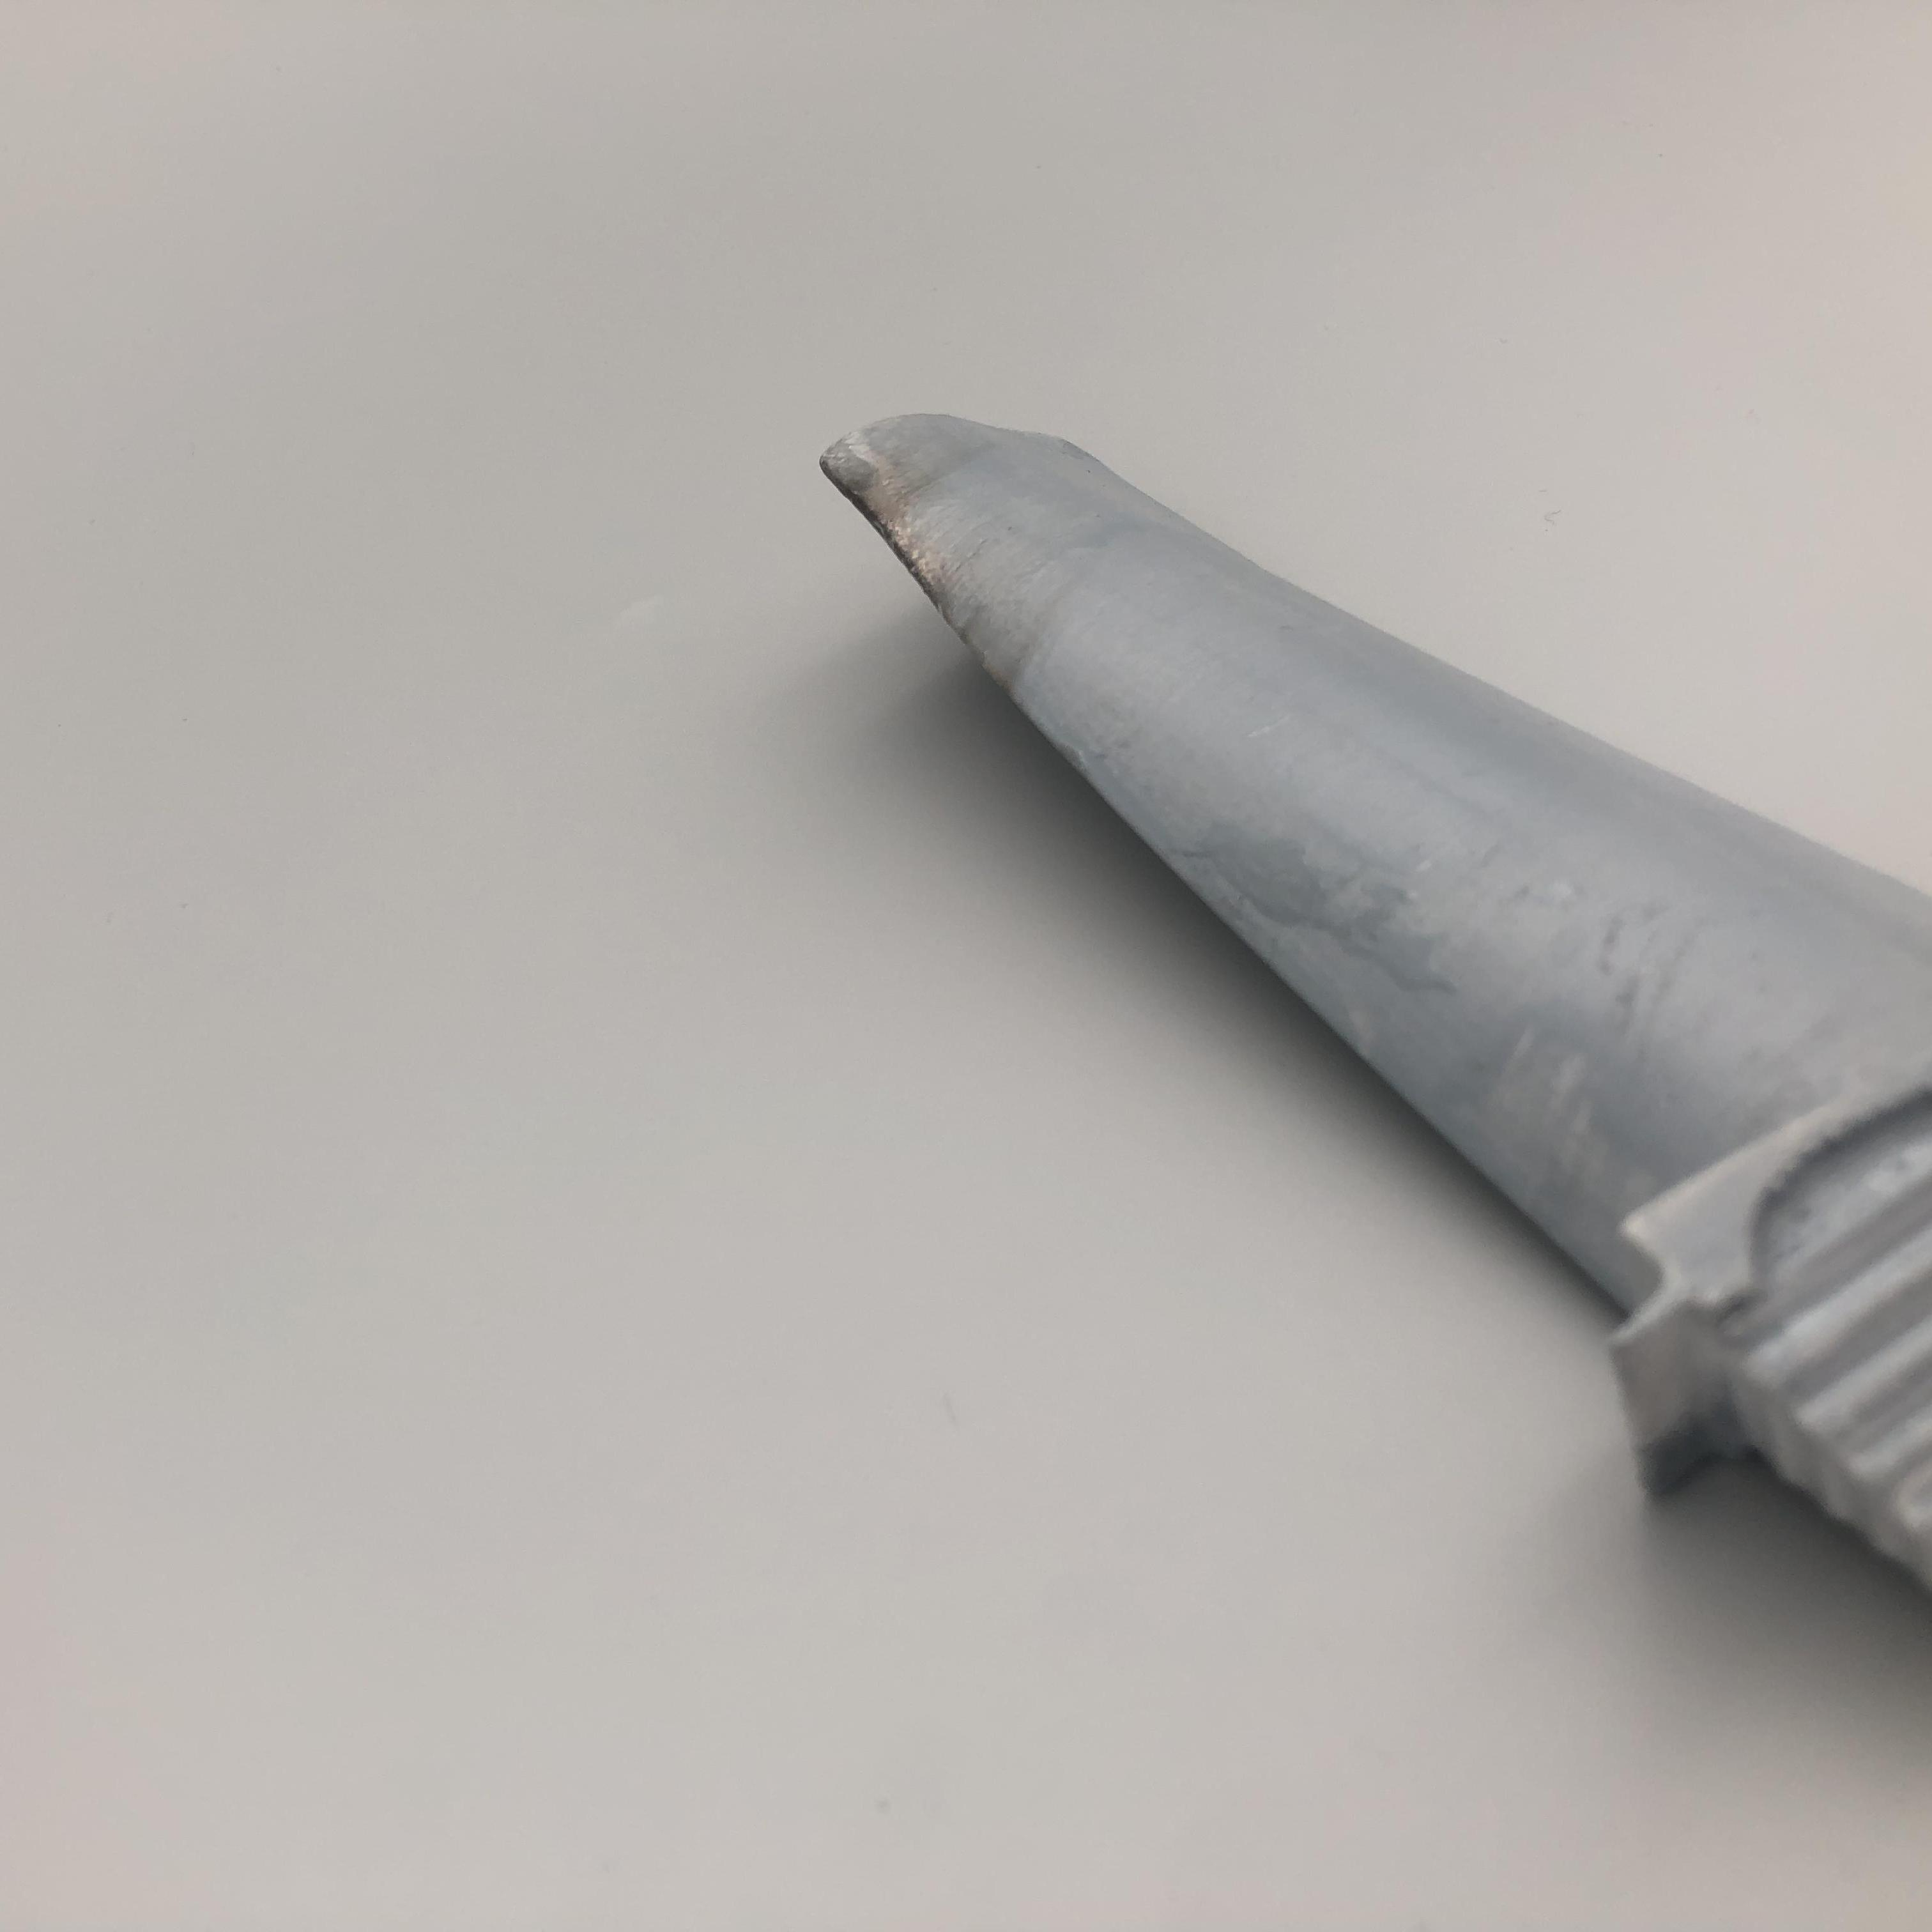ablation: (816, 453, 978, 632)
